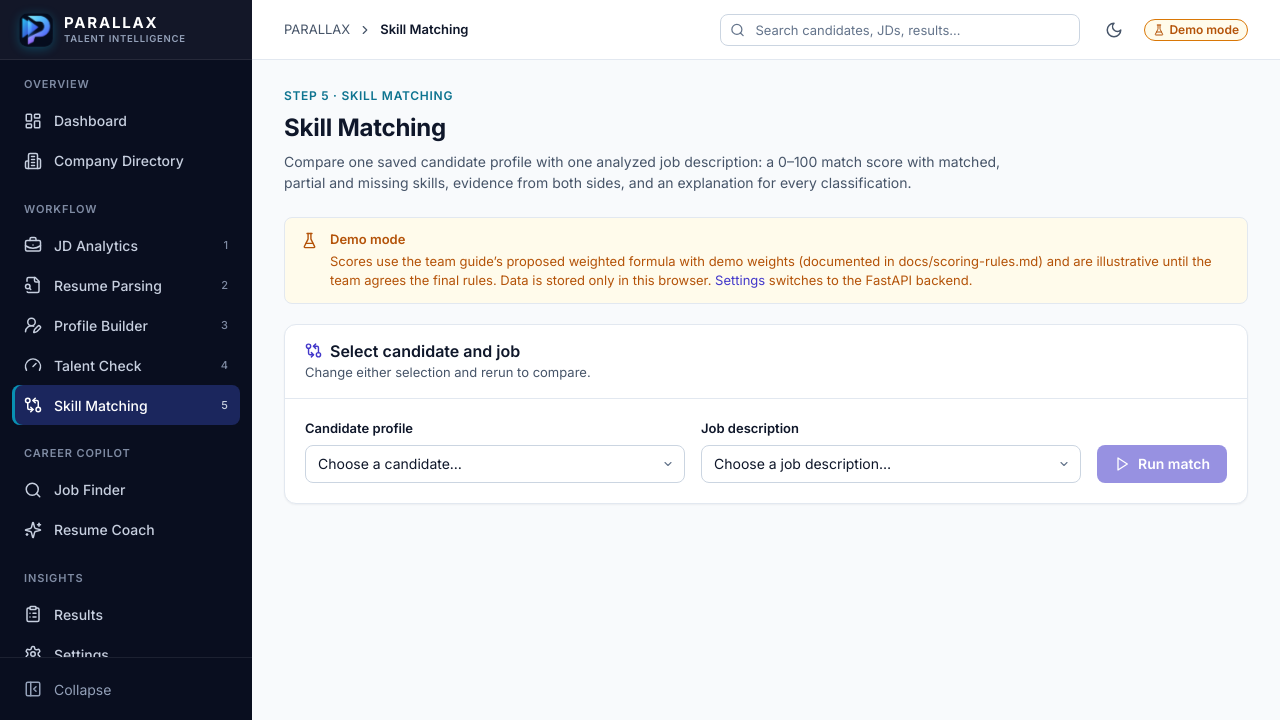
Scenario: Skill Matching Page & Components › enables match execution only after selecting both candidate and JD
The width and height of the screenshot is (1280, 720).
Expected: the button "Run match" is disabled, x1=1097 y1=444 x2=1227 y2=482
// Select candidate only
Select "Ananya Rao (12 skills)" in the dropdown labelled "Candidate profile": (495, 464) x1=305 y1=444 x2=685 y2=482
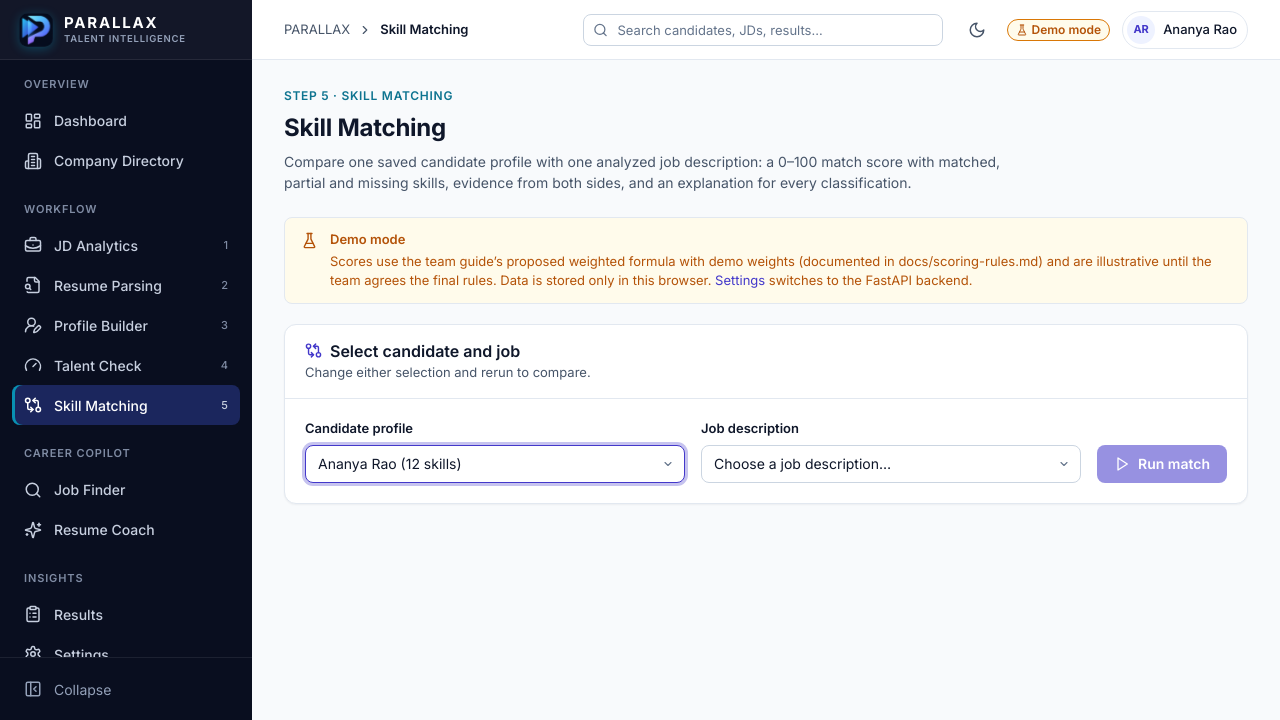
Expected: the button "Run match" is disabled, x1=1097 y1=444 x2=1227 y2=482
// Select JD as well
Select "Software Engineer (SWE) — Google LLC" in the dropdown labelled "Job description": (891, 464) x1=701 y1=444 x2=1081 y2=482
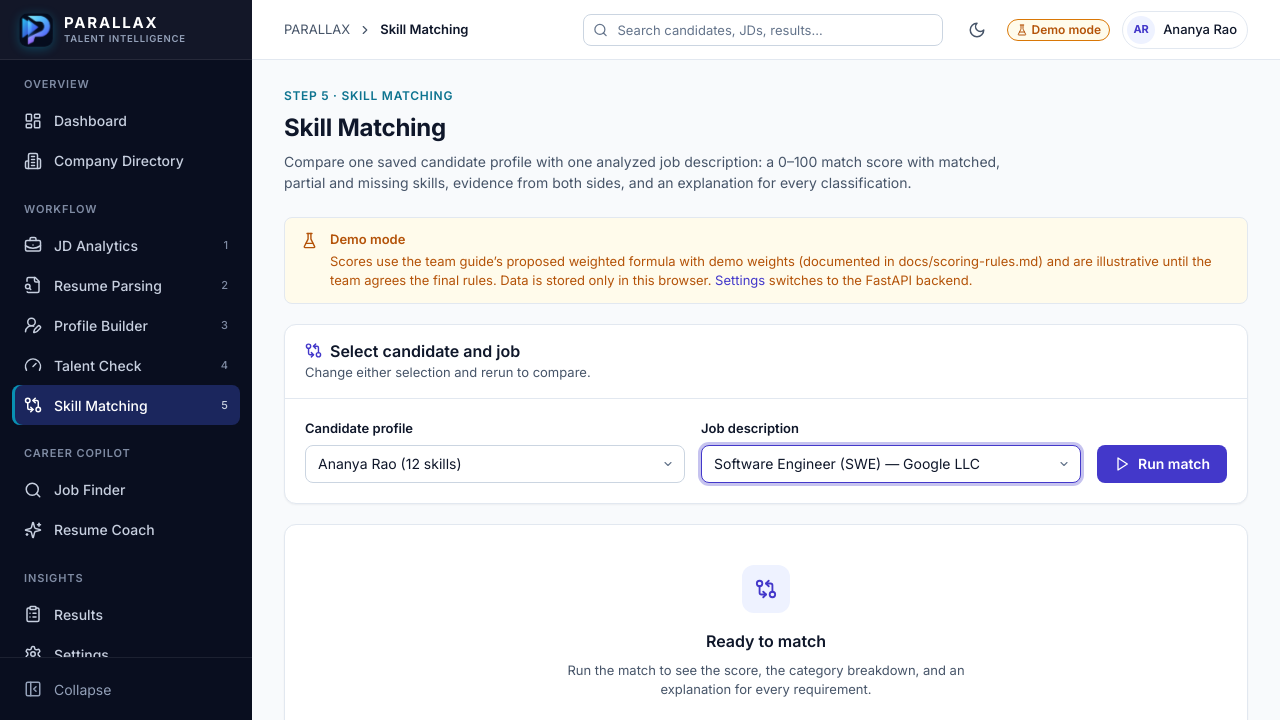
Now the 1st button "Run match" is enabled, box x1=1097 y1=444 x2=1227 y2=482
